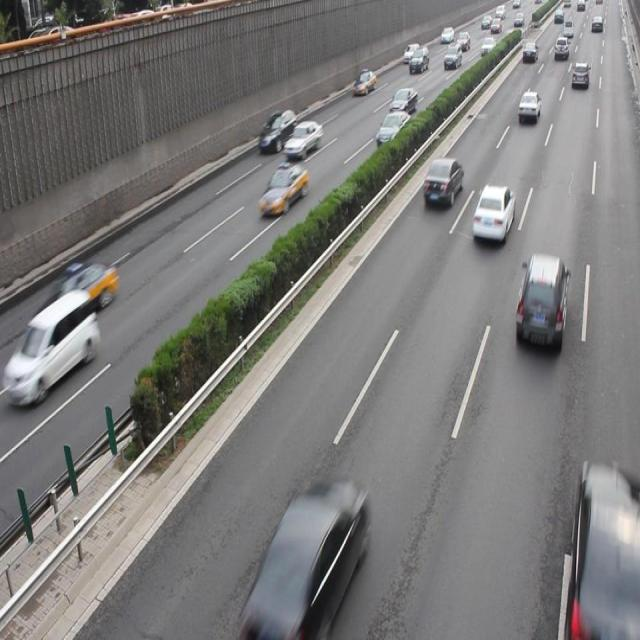car: (244, 477, 364, 640), (566, 457, 640, 639), (32, 258, 118, 325), (513, 251, 568, 350), (257, 163, 309, 217), (471, 183, 514, 242), (422, 155, 463, 206), (258, 108, 297, 153), (283, 119, 322, 158), (376, 112, 410, 148), (387, 86, 417, 117), (516, 90, 539, 122)
truck: (0, 286, 99, 404)
